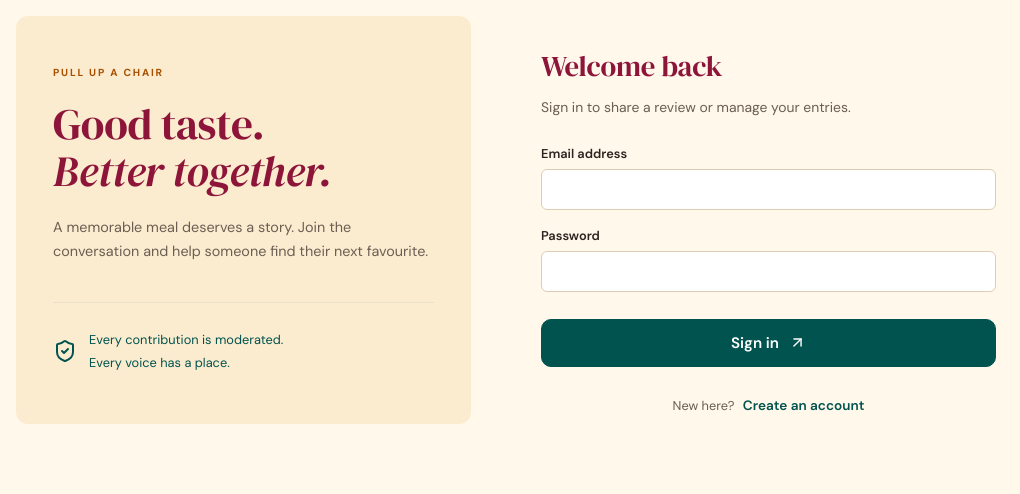
Test case: Account sign in › shows the server error and stays on the form when sign in fails
Type "nimali@example.com" into the field labelled "Email address".
click(768, 190); type("nimali@example.com")  # box [541,169,996,210]
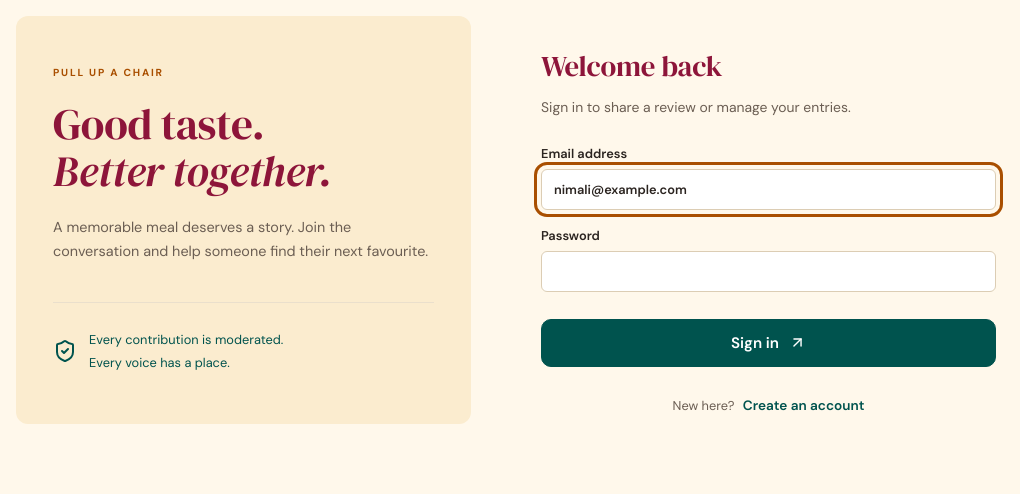
Type "correct horse" into the password field labelled "Password".
click(768, 272); type("correct horse")  # box [541,251,996,292]
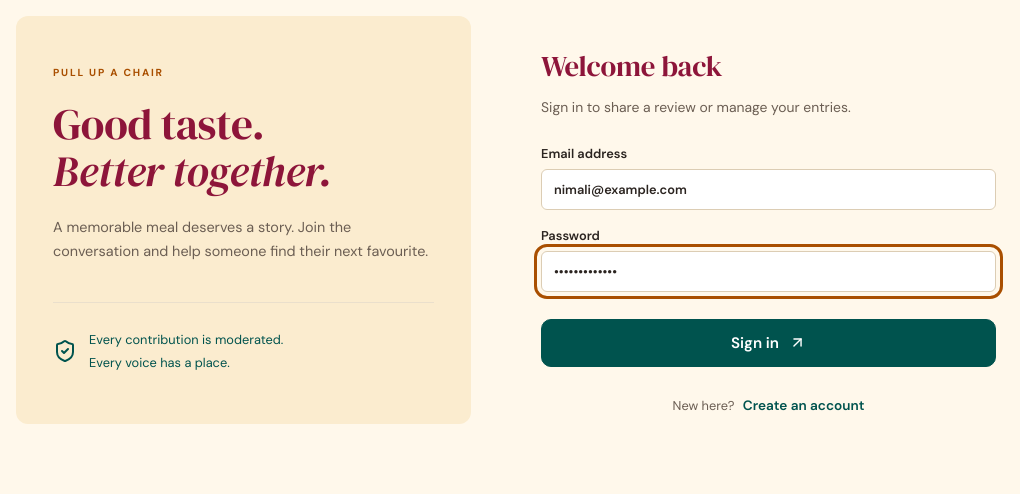
Click the button "Sign in".
click(768, 343)  # box [541,319,996,367]
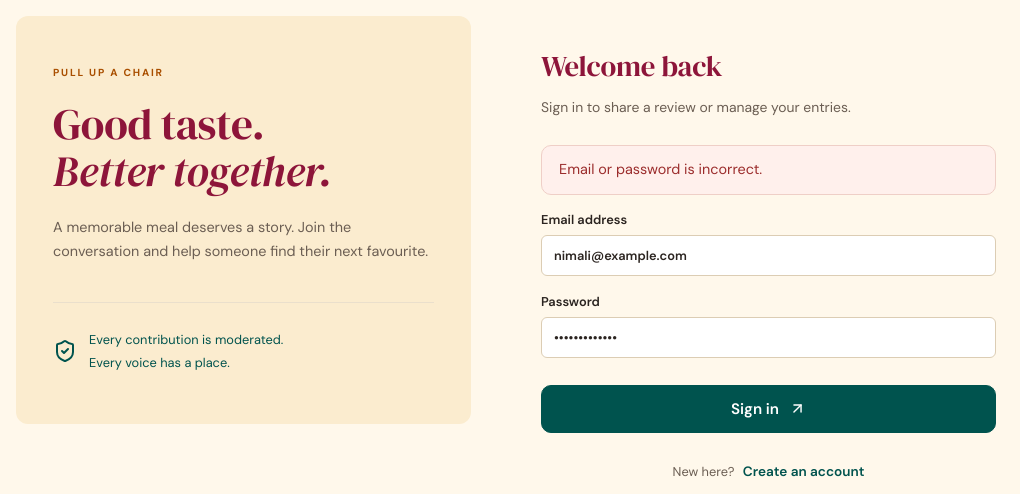
Expected: the button "Sign in" is enabled, [541,385,996,433]
Result: the message reads "Email or password is incorrect." at [559,160,762,178]
